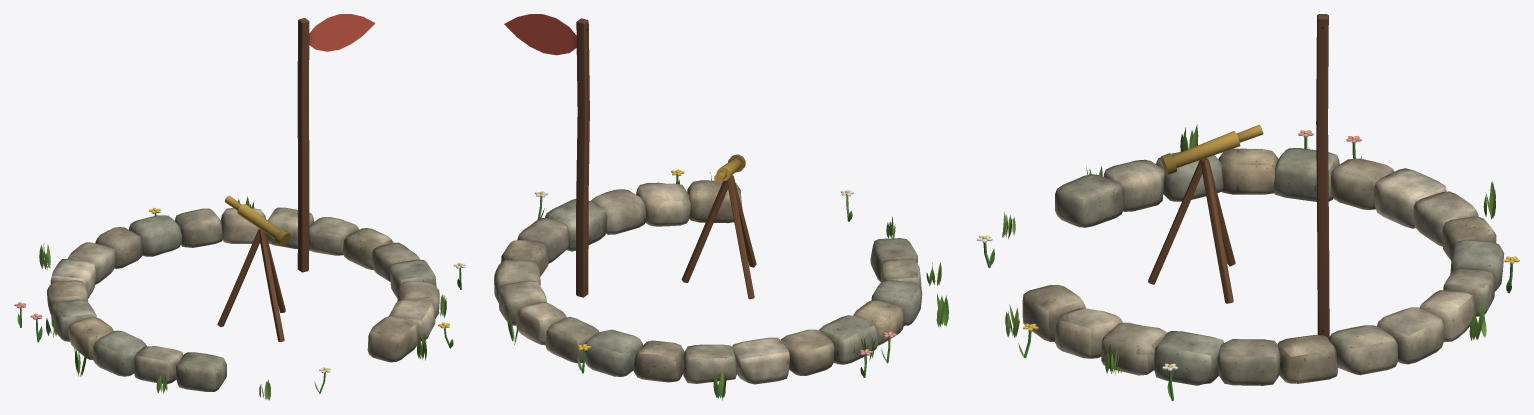
Rendered from lookout.gltf.
3 renders of one model, left to right at view 1: azimuth 30°, elevation 25°; view 2: azimuth 150°, elevation 25°; view 3: azimuth 270°, elevation 25°, orthographic. The views are drawn at different scales.
Visible parts, largest first — view 1: Stones, Lookout, Pennant; view 2: Stones, Lookout, Pennant; view 3: Stones, Lookout.
Boxes of the visible parts, box(x1,y1,x2,y2) form: Stones: box(47, 207, 439, 391); Lookout: box(14, 18, 465, 400); Pennant: box(309, 14, 375, 51); Stones: box(494, 180, 922, 384); Lookout: box(507, 18, 948, 400); Pennant: box(504, 14, 576, 55); Stones: box(1022, 148, 1504, 385); Lookout: box(977, 14, 1519, 400).
Size of the model in its own units: 4.78 by 3.04 by 4.57.
15 materials, 1 textured.
